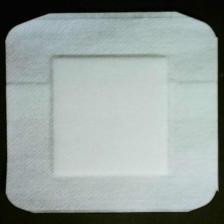Dressing: (6, 13, 220, 217)
